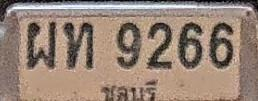2: (147, 22, 172, 68)
6: (209, 22, 233, 68), (178, 22, 202, 68)
9: (116, 22, 140, 68)
A23: (64, 21, 94, 68)
A28: (27, 21, 56, 68)
CBI: (98, 77, 161, 101)
